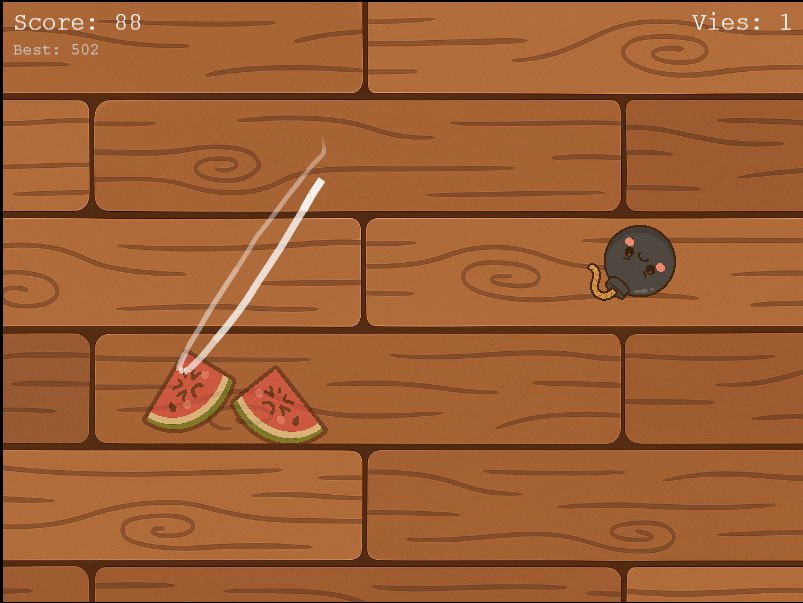bomb: (581, 222, 682, 310)
